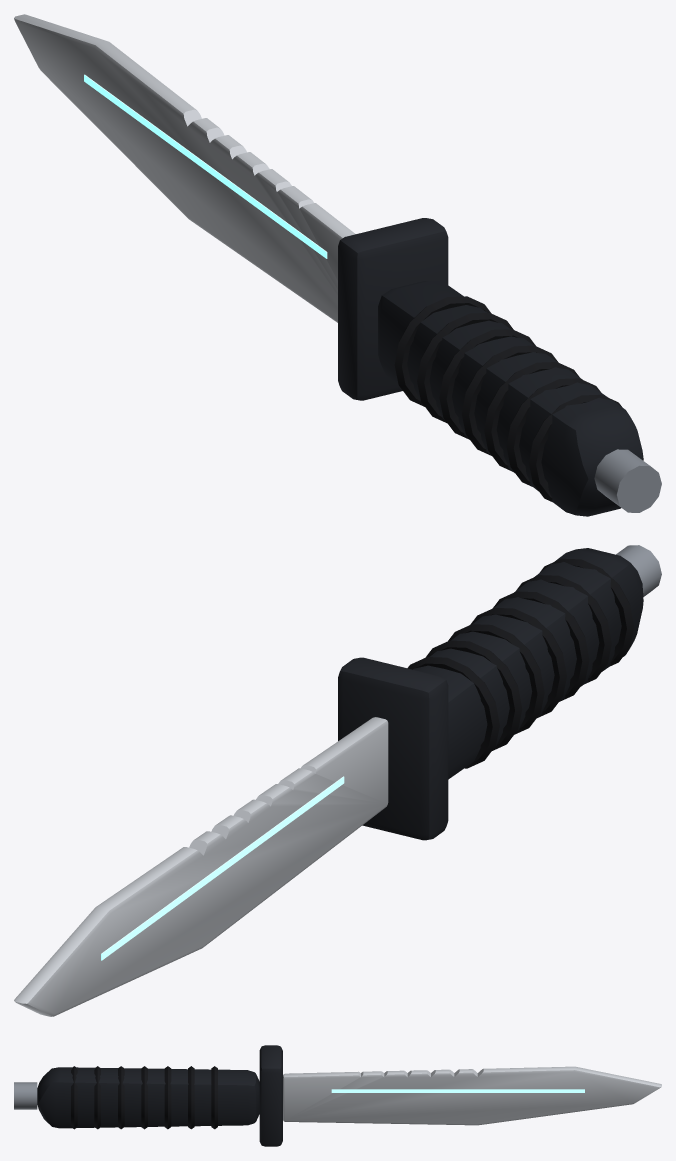
Rendered from arme_couteau.glb.
The picture shows the model from 3 angles, top to bottom: view 1: azimuth 30°, elevation 25°; view 2: azimuth 150°, elevation 25°; view 3: azimuth 270°, elevation 25°; orthographic projection. The views are drawn at different scales.
Parts seen in each view (by area): view 1: Couteau; view 2: Couteau; view 3: Couteau.
Boxes of the visible parts, x1,y1,x2,y2 form: Couteau: (14, 14, 661, 516); Couteau: (14, 545, 661, 1016); Couteau: (14, 1045, 661, 1146).
Size of the model in its own units: 0.0326 by 0.046 by 0.3325.
